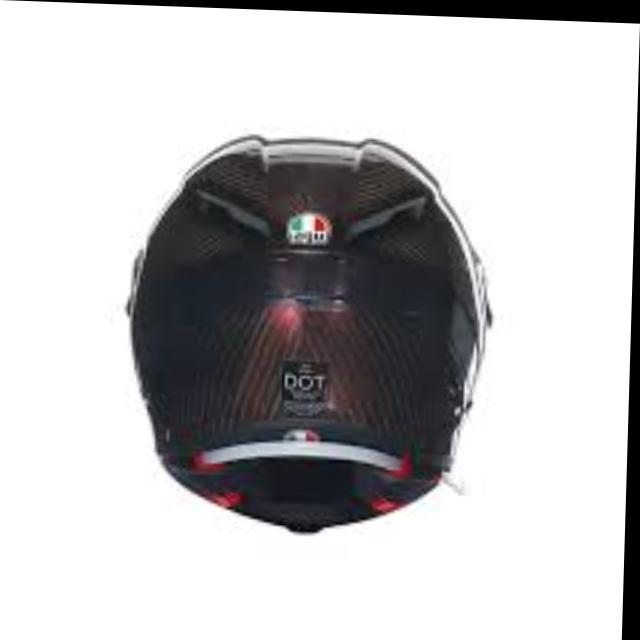motorcycle-helmets: (131, 135, 489, 530)
